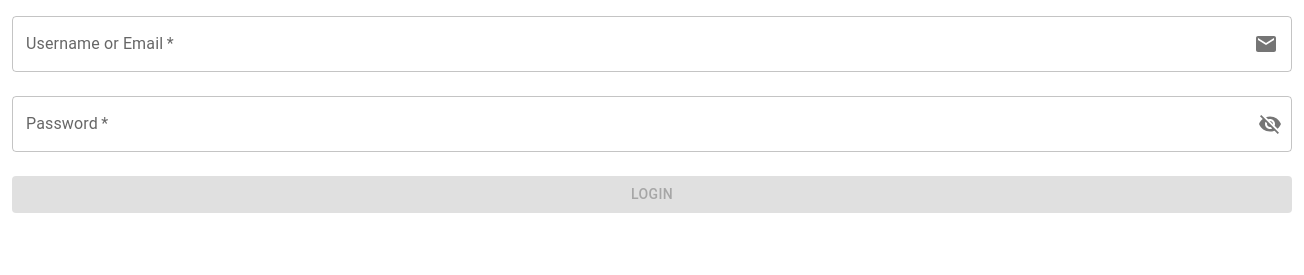
Test: Login integration – user flow › user sees error snackbar on login failure
// Fill in with wrong password
Type "testuser" into the field labelled "Username or Email *" at (629, 44), box x1=12 y1=16 x2=1246 y2=72
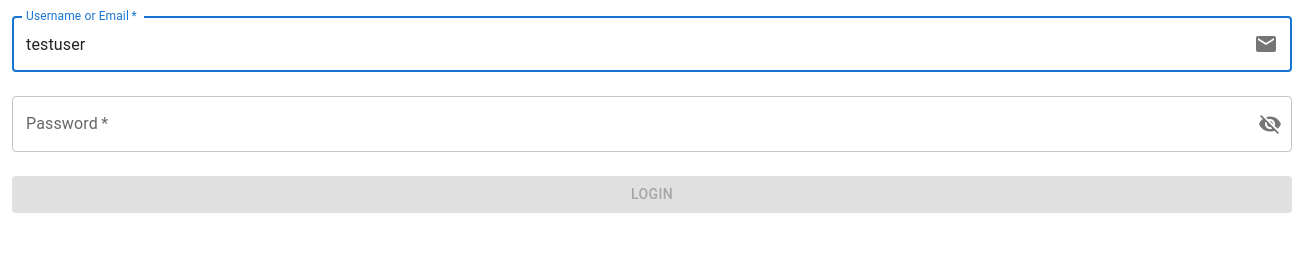
Type "wrongpassword" into the password field labelled "Password *" at (627, 124), box x1=12 y1=96 x2=1242 y2=152
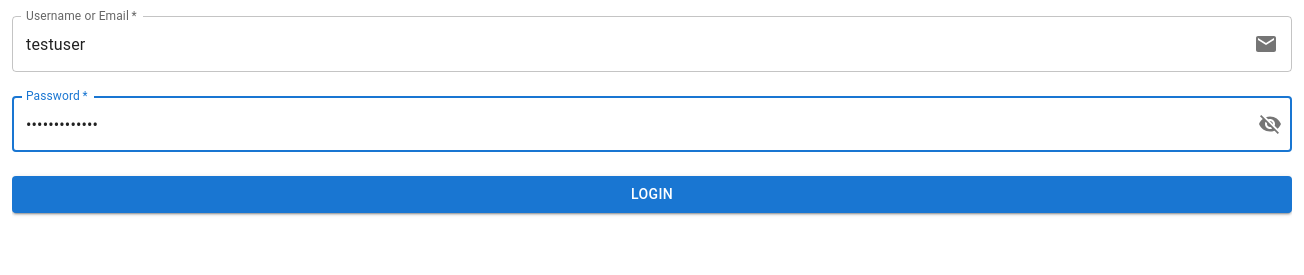
// Submit form
Click the button "Login" at (652, 194), box x1=12 y1=176 x2=1292 y2=212
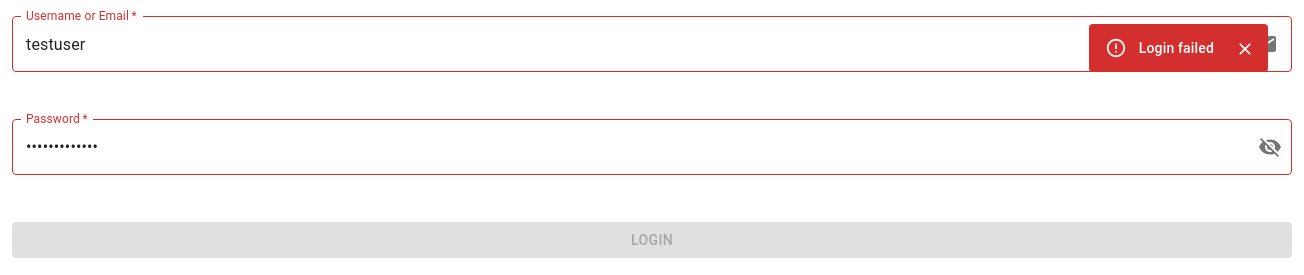
Expected: the text "Login failed" is shown, x1=1139 y1=40 x2=1214 y2=56
